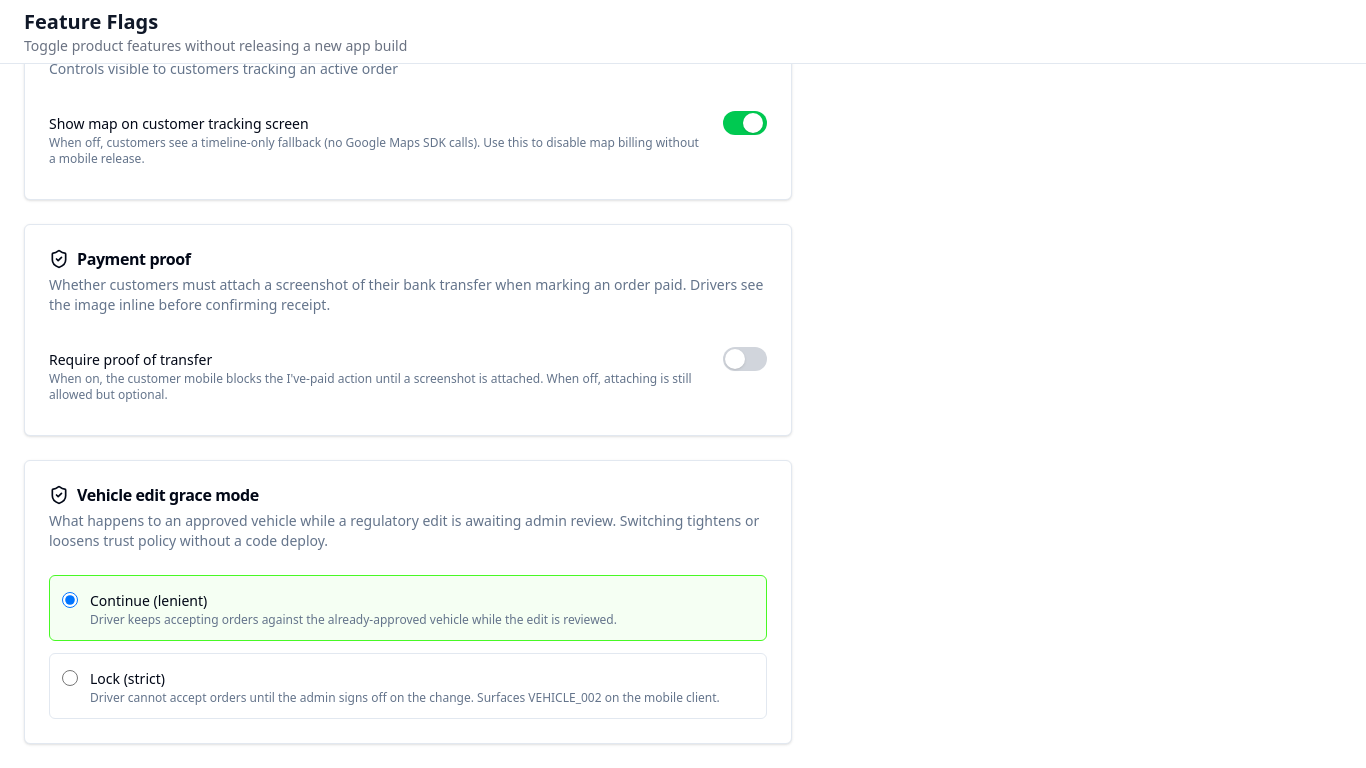
Test: FeatureFlagsSettingsPage — vehicle grace mode radio (F3) › shows the saved confirmation once the mutation settles
(page scrolled)
Expected: the element with test id "vehicle-grace-mode-fieldset" is shown, [49, 575, 767, 719]
What coordinates should you click on to do the following:
click the radio button labelled "Lock (strict)"
I would click on:
 (70, 678)
Its box is [62, 670, 78, 686].
(page scrolled)
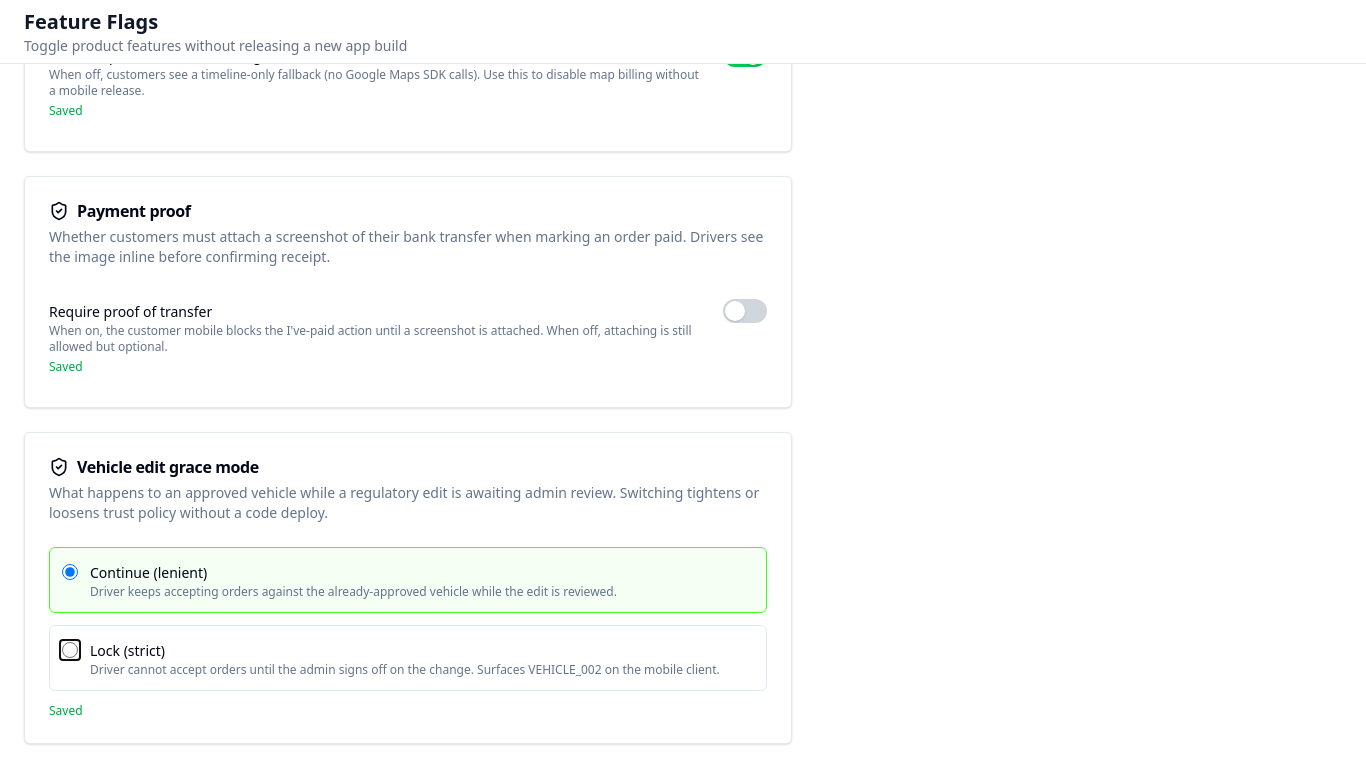
Expected: the text with test id "vehicle-grace-mode-success" is shown, [49, 702, 83, 719]
